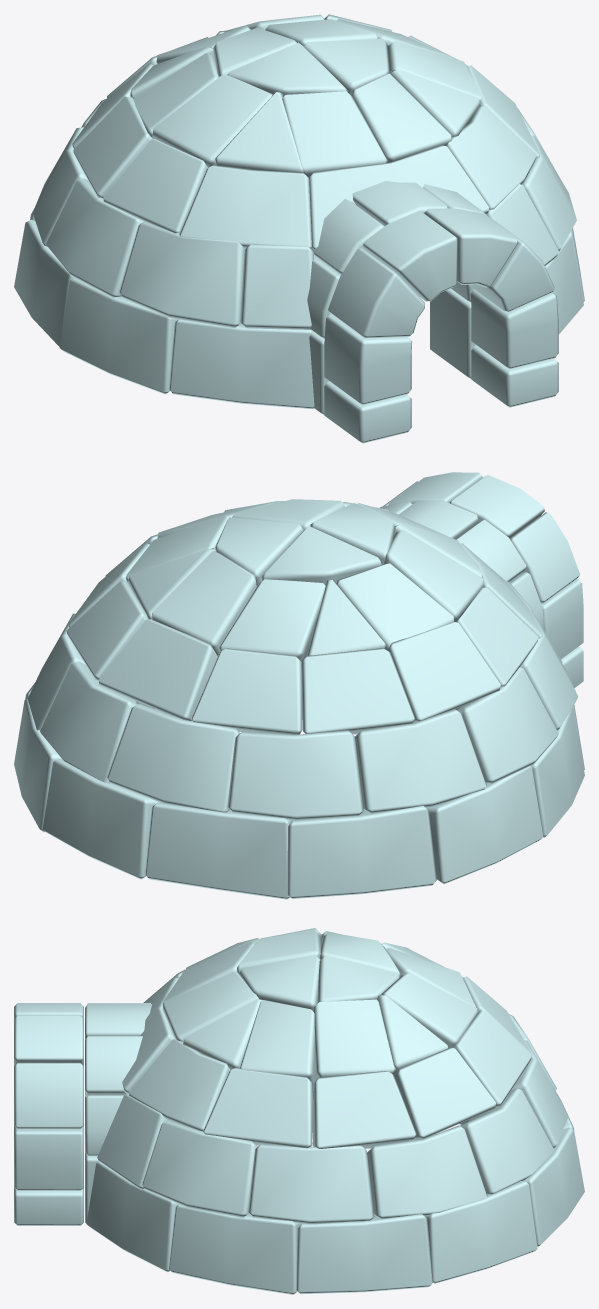
Rendered from igloo_001.fbx.
The picture shows the model from 3 angles, top to bottom: view 1: azimuth 30°, elevation 25°; view 2: azimuth 150°, elevation 25°; view 3: azimuth 270°, elevation 25°; orthographic projection. The views are drawn at different scales.
Visible parts, largest first — view 1: igloo_001; view 2: igloo_001; view 3: igloo_001.
Part boxes in pixels (<box>): igloo_001: <box>14,14,584,443</box>; igloo_001: <box>14,472,584,899</box>; igloo_001: <box>14,928,584,1294</box>.
Size of the model in its own units: 565 by 625 by 284.
